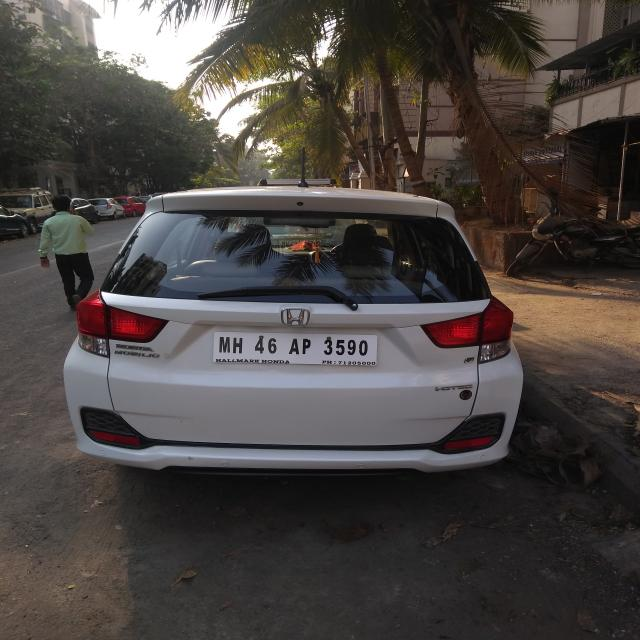Number-Plate: (212, 330, 378, 364)
